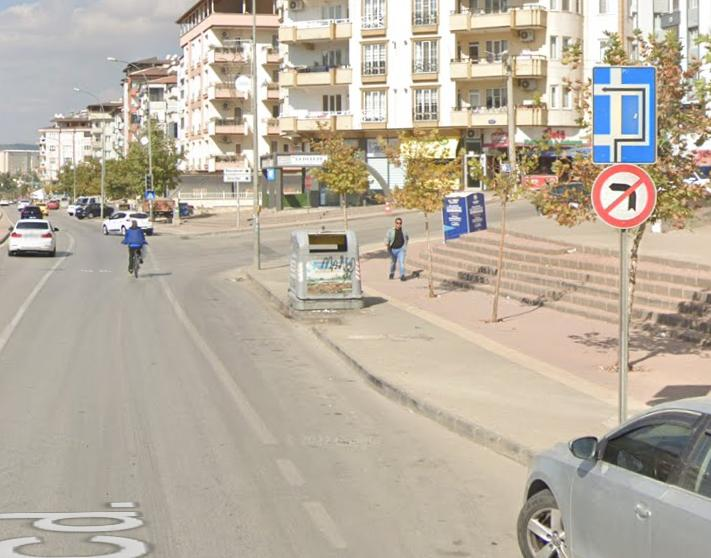leftturnsareforbidden: (595, 165, 657, 230)
